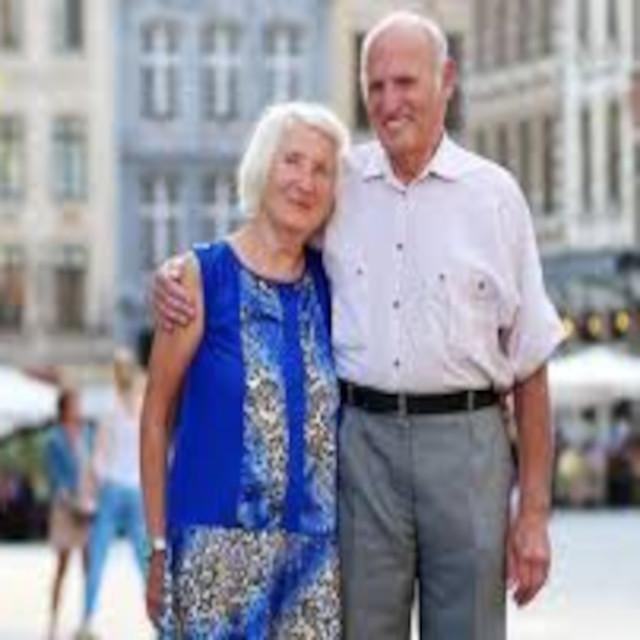kobieta: (129, 106, 343, 640)
mezczyzna: (337, 15, 579, 640)
